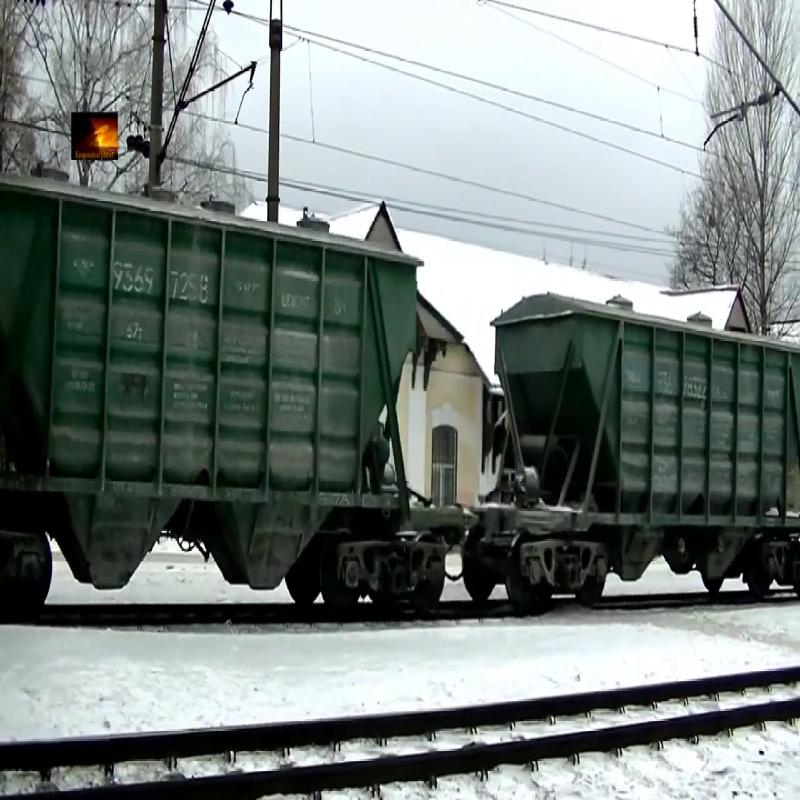train: (1, 175, 458, 610), (494, 294, 800, 622)
